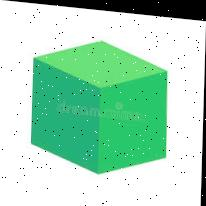cube: (31, 34, 170, 177)
